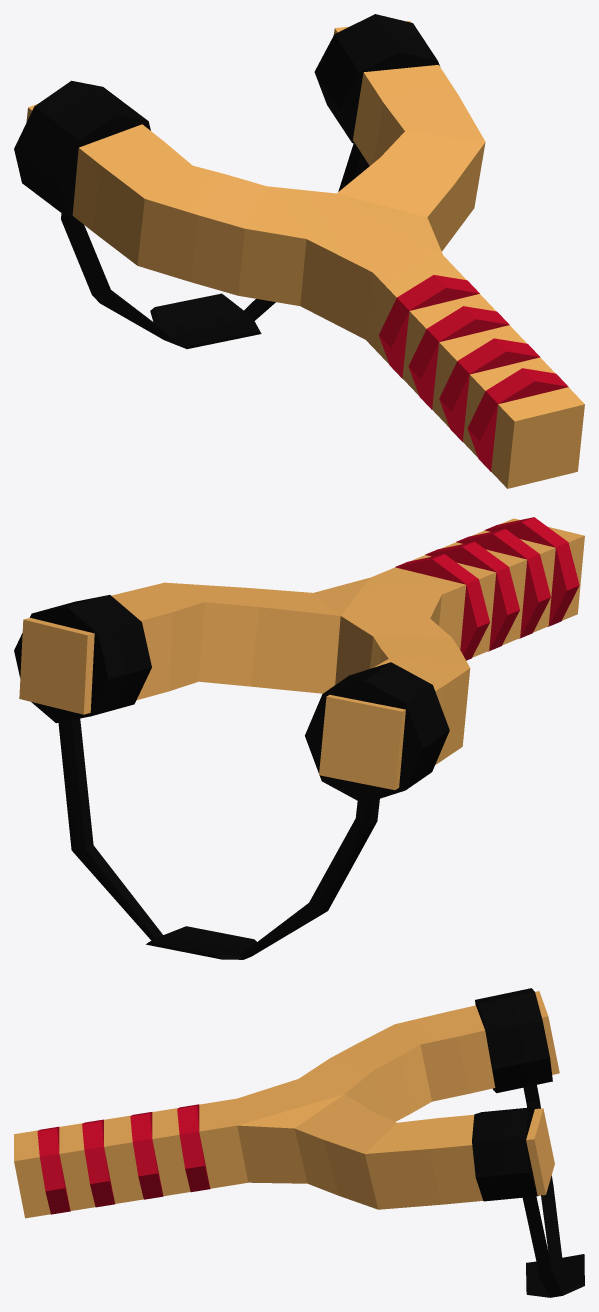
Rendered from slingShot.obj.
The picture shows the model from 3 angles, top to bottom: view 1: azimuth 30°, elevation 25°; view 2: azimuth 150°, elevation 25°; view 3: azimuth 270°, elevation 25°; orthographic projection. The views are drawn at different scales.
Parts seen in each view (by area): view 1: Plane, Cylinder.003_Cylinder.004, Cylinder.002, Cube_Cube.001, Cylinder.001; view 2: Plane, Cylinder.003_Cylinder.004, Cube_Cube.001, Cylinder.002, Cylinder.001; view 3: Plane, Cylinder.003_Cylinder.004, Cylinder.002, Cylinder.001, Cube_Cube.001.
Part boxes in pixels (x1,y1,x2,y2): Plane: (26, 21, 584, 488); Cylinder.003_Cylinder.004: (379, 275, 568, 471); Cylinder.002: (14, 80, 150, 219); Cube_Cube.001: (61, 143, 369, 348); Cylinder.001: (314, 14, 440, 143); Plane: (19, 518, 584, 789); Cylinder.003_Cylinder.004: (395, 517, 579, 660); Cube_Cube.001: (58, 718, 379, 959); Cylinder.002: (305, 662, 449, 803); Cylinder.001: (14, 595, 151, 723); Plane: (14, 991, 559, 1218); Cylinder.003_Cylinder.004: (37, 1104, 210, 1214); Cylinder.002: (475, 988, 552, 1093); Cylinder.001: (472, 1107, 538, 1201); Cube_Cube.001: (522, 1085, 584, 1297).
Bounding box in the file's own units: 7.21 × 4.97 × 11.08.
Materials: 1 (1 with a texture image).
